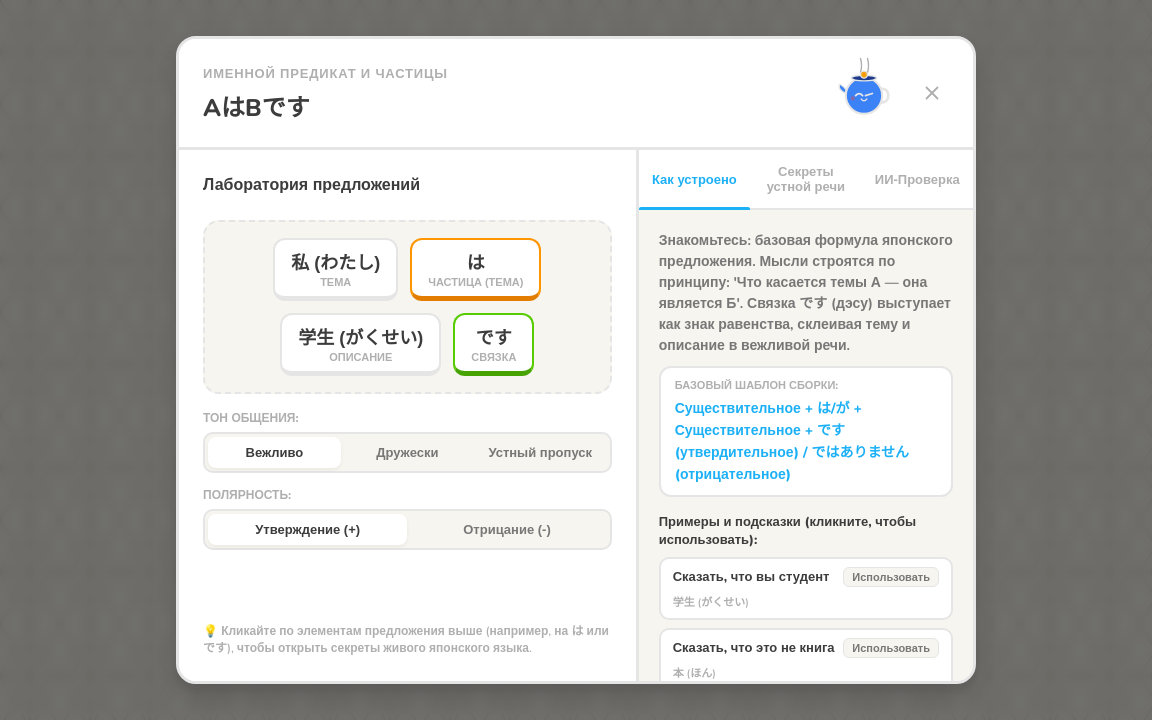
it: GrammarTrainer Component › updates card text when switching Tone and Polarity
Check: the 1st text "です" is shown, box [476,323,512,349]
# Кликаем «Дружески»
Click the button "Дружески".
click(407, 452)  # box [341,437,474,468]
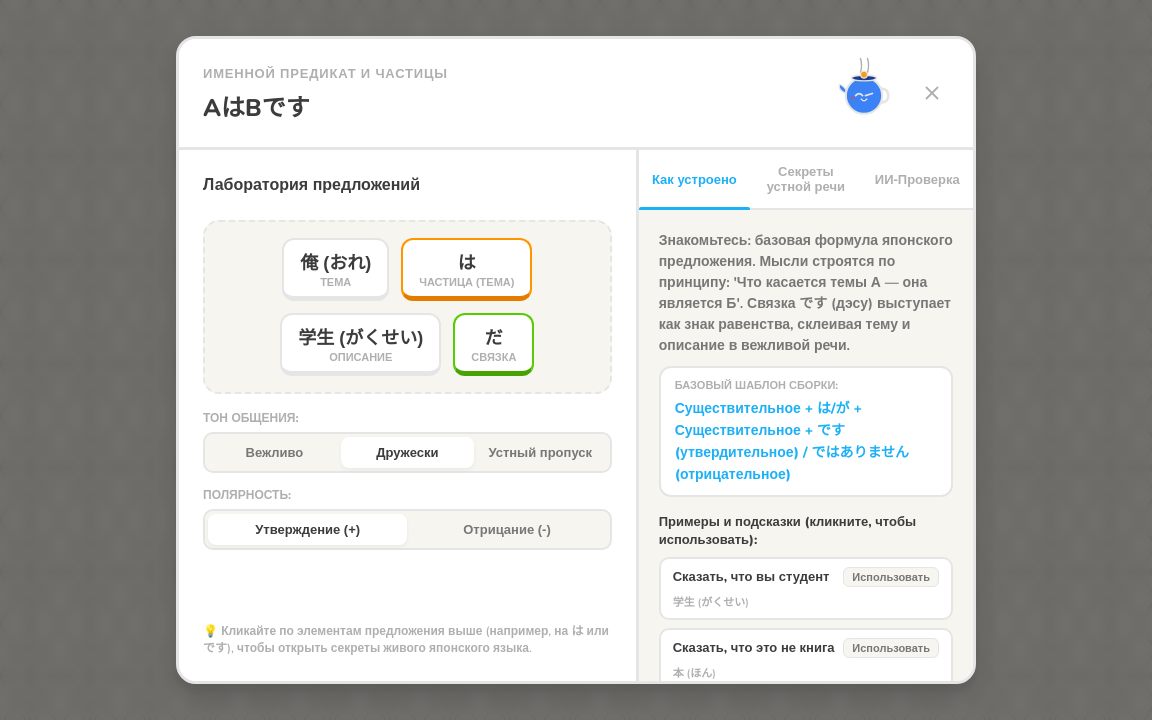
Check: the text "だ" is shown, box [485,323,503,349]
Check: the text "俺 (おれ)" is shown, box [300,248,371,274]
# Кликаем «Отрицание (-)»
Click the button "Отрицание (-)".
click(507, 530)  # box [407,514,607,545]
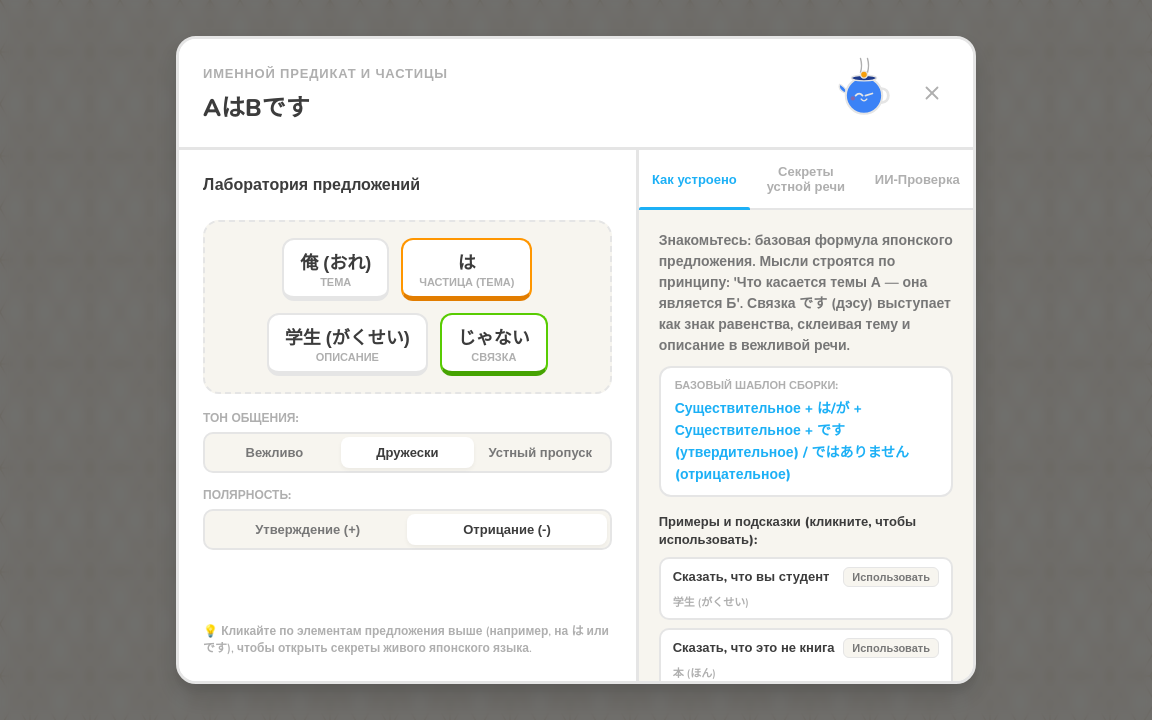
Check: the text "じゃない" is shown, box [458,323,530,349]
